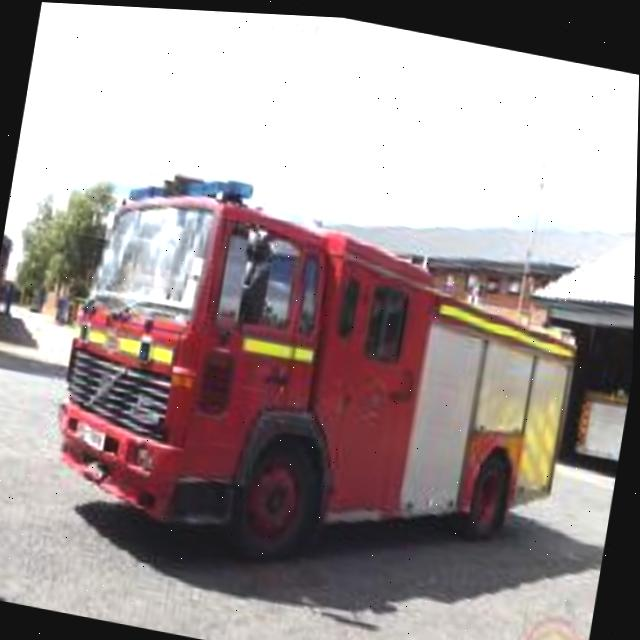emergency: (57, 163, 597, 590)
